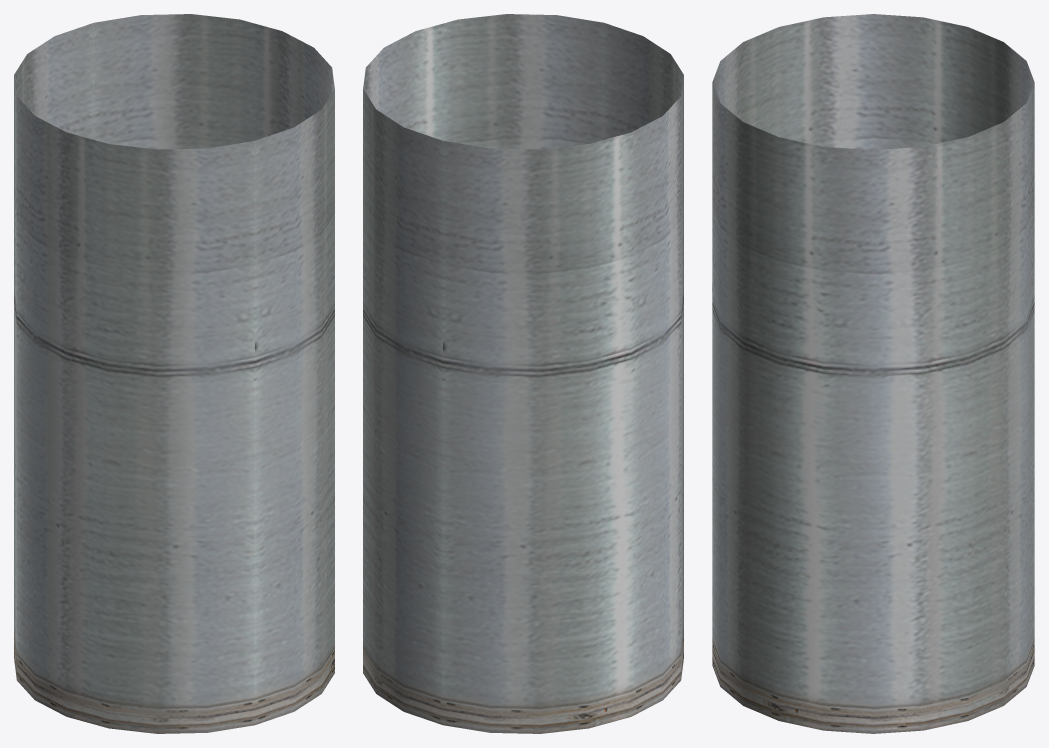
File: Pipe_A_1mts_05.fbx
The picture shows the model from 3 angles, left to right: view 1: azimuth 30°, elevation 25°; view 2: azimuth 150°, elevation 25°; view 3: azimuth 270°, elevation 25°; orthographic projection.
Parts seen in each view (by area): view 1: Pipe_A_1mts_05; view 2: Pipe_A_1mts_05; view 3: Pipe_A_1mts_05.
Part boxes in pixels (x1,y1,x2,y2): Pipe_A_1mts_05: [14, 14, 334, 733]; Pipe_A_1mts_05: [363, 14, 683, 733]; Pipe_A_1mts_05: [712, 14, 1034, 733].
Bounding box in the file's own units: 100 × 200 × 100.
Materials: 1 (1 with a texture image).
